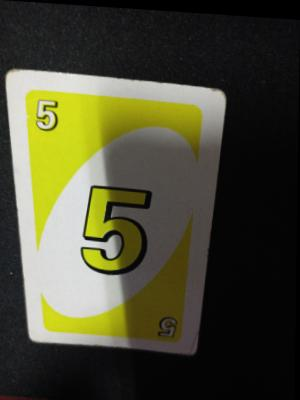num_2: (72, 170, 161, 286), (29, 91, 70, 160)
yellow: (124, 306, 183, 341)
